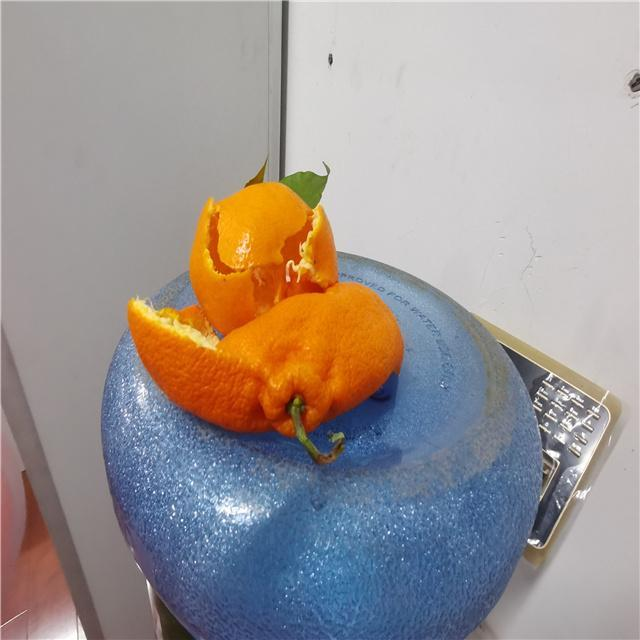orange-peel: (125, 179, 405, 451), (188, 180, 338, 334)
